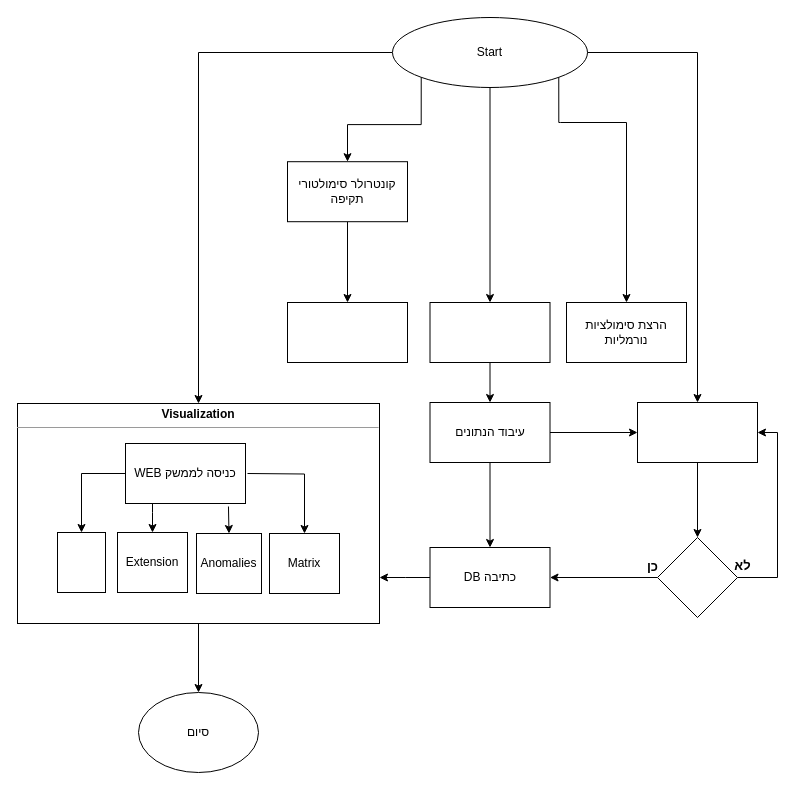
This 803x790 diagram has some shape labels left out. Here are the shapes that lost their labels. From the top down, the centre of each, then its label:
pixel 347 332: הרצת התקפה
pixel 489 332: איסוף המידע
pixel 697 432: מציאת חריגות
pixel 81 562: Home
pixel 697 577: נמצאה חריגה
